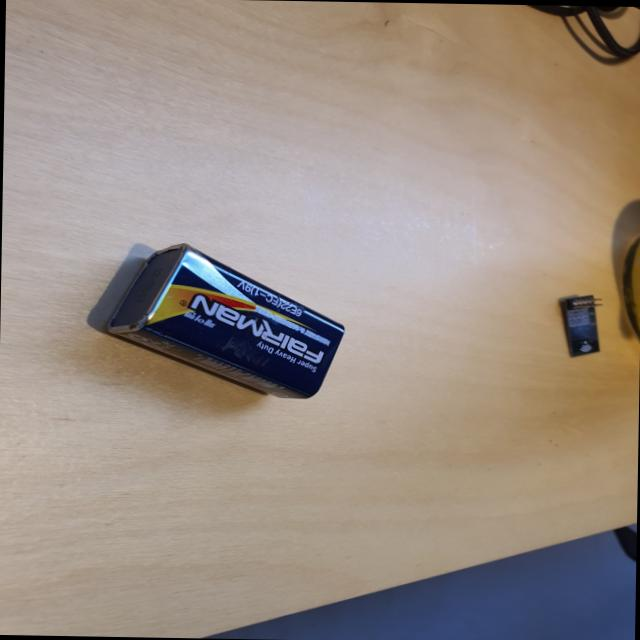battery-etc-etc: (87, 235, 356, 406)
